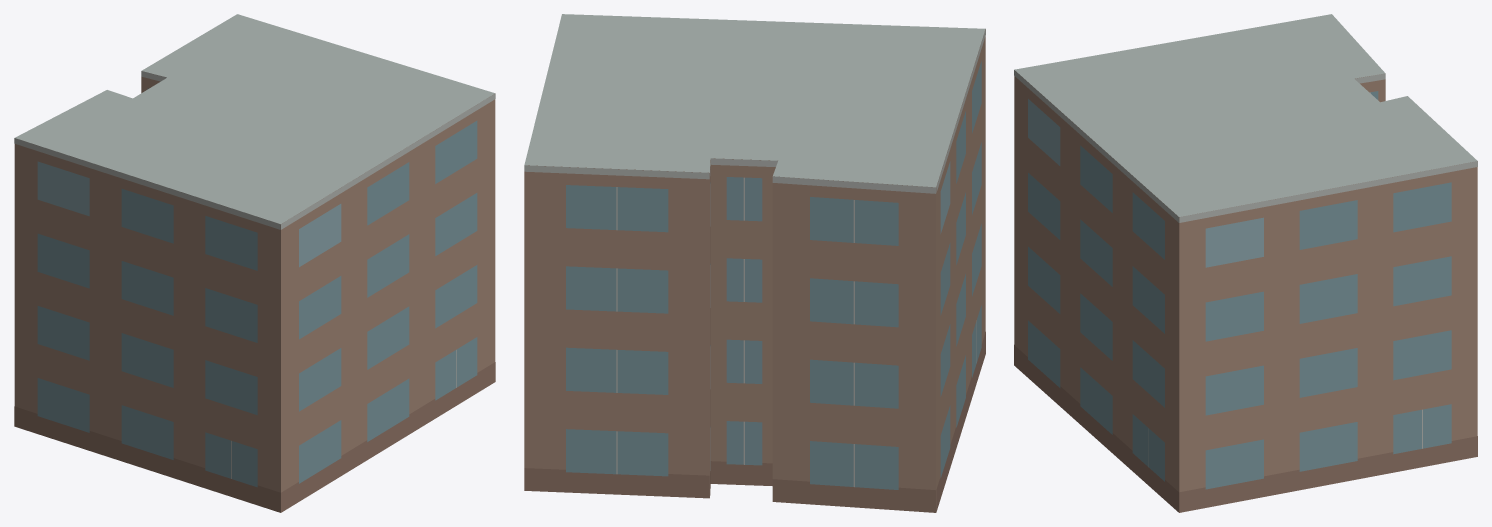
File: survey-upis-32931444.glb
3 views of the same model, side by side, from view 1: azimuth 30°, elevation 25°; view 2: azimuth 150°, elevation 25°; view 3: azimuth 270°, elevation 25° (orthographic). The views are drawn at different scales.
Parts seen in each view (by area): view 1: survey-upis-32931444.tmp; view 2: survey-upis-32931444.tmp; view 3: survey-upis-32931444.tmp.
Boxes of the visible parts, box(x1,y1,x2,y2) form: survey-upis-32931444.tmp: box(14, 14, 495, 512); survey-upis-32931444.tmp: box(524, 14, 985, 512); survey-upis-32931444.tmp: box(1014, 14, 1477, 512).
Size of the model in its own units: 17.98 by 12.2 by 17.35.
